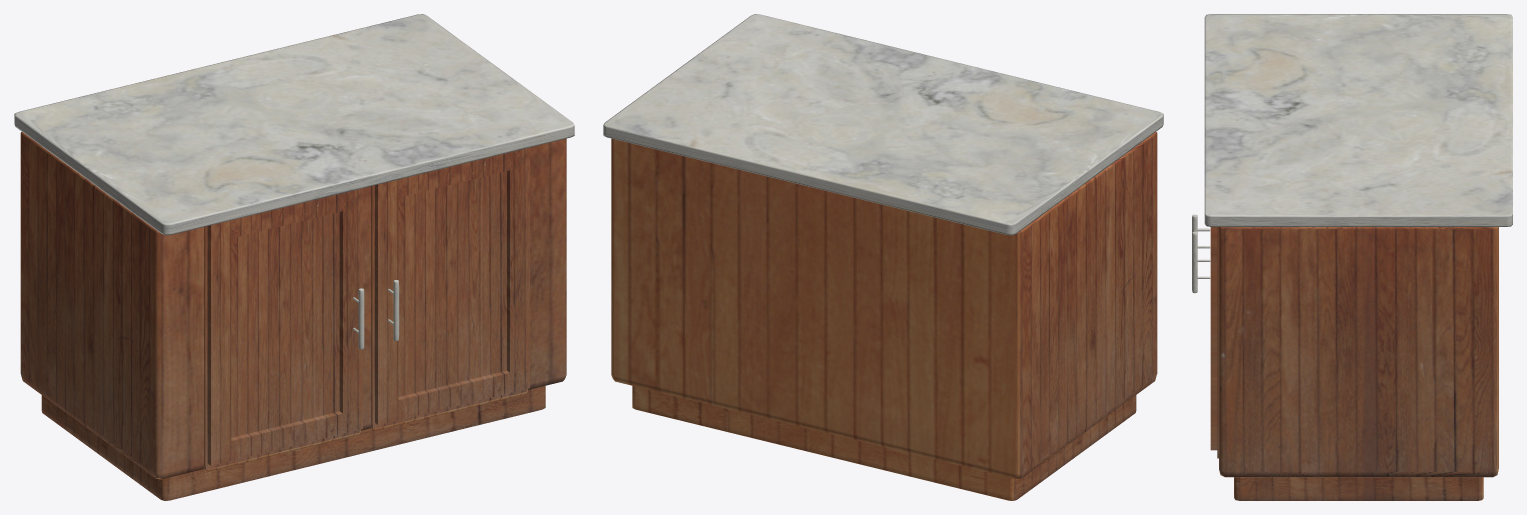
The model's file is counter_textured.fbx.
3 renders of one model, left to right at view 1: azimuth 30°, elevation 25°; view 2: azimuth 150°, elevation 25°; view 3: azimuth 270°, elevation 25°, orthographic.
Parts seen in each view (by area): view 1: top1, pCube1, left_door, right_door, bottom; view 2: pCube1, top1, bottom; view 3: pCube1, top1, bottom, right_door, pCylinder1.
Boxes of the visible parts, x1,y1,x2,y2 form: top1: (14,14,574,235); pCube1: (20,132,566,479); left_door: (204,188,362,471); right_door: (371,147,529,430); bottom: (41,386,545,500); pCube1: (611,132,1157,479); top1: (603,14,1163,235); bottom: (632,386,1136,500); pCube1: (1219,227,1498,477); top1: (1204,14,1512,226); bottom: (1234,477,1483,500); right_door: (1210,227,1218,458); pCylinder1: (1192,231,1197,293).
Size of the model in its own units: 3.98 by 2.69 by 2.67.
Materials: 2 (2 with a texture image).
